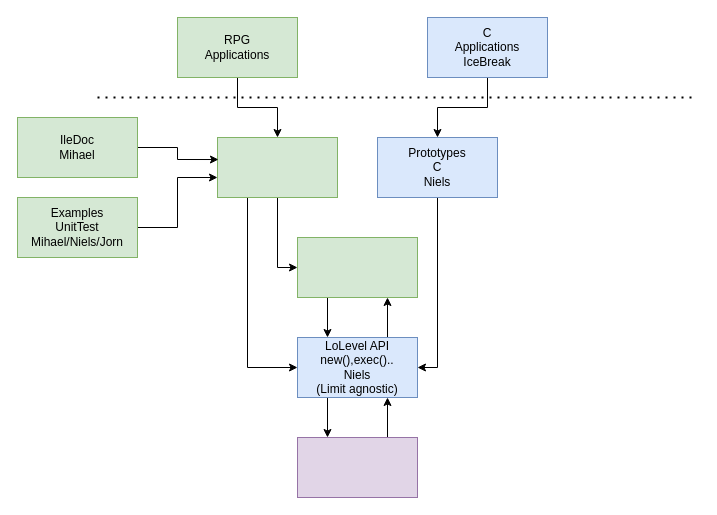
This 717x515 diagram has some shape labels left out. The shapes that lost their labels are listed below. From the top down, each one's centre as x and y in pixels, then its label:
[277,167]: Prototypes RPG Mihael
[357,267]: HighLevel API get(),post().. Mihael (Limits OK)
[357,467]: GSkit IBM
